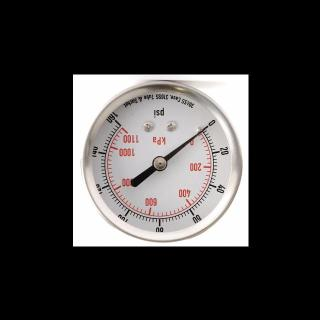gauge: (74, 74, 248, 246), (193, 117, 215, 139), (114, 118, 132, 135), (152, 156, 168, 171), (201, 122, 210, 132)
